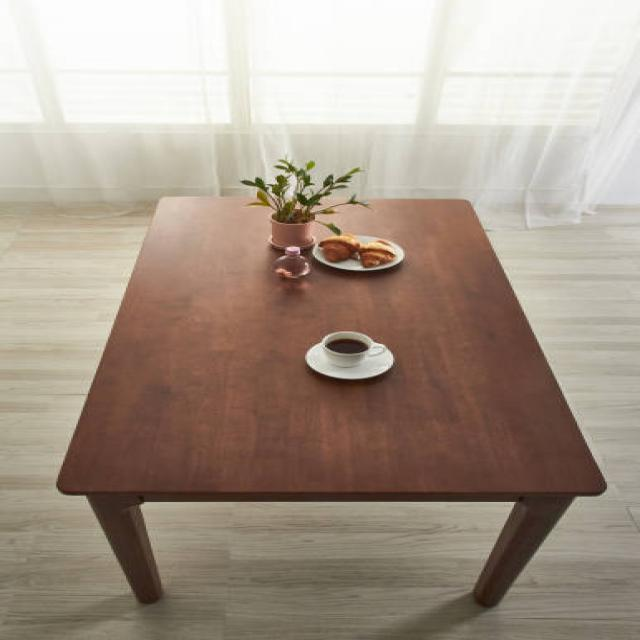table: (55, 194, 607, 606)
